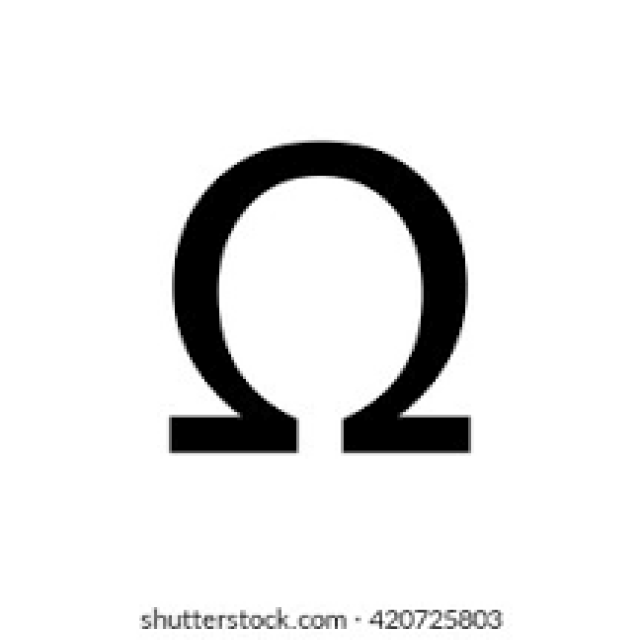ohms: (107, 110, 555, 488)
